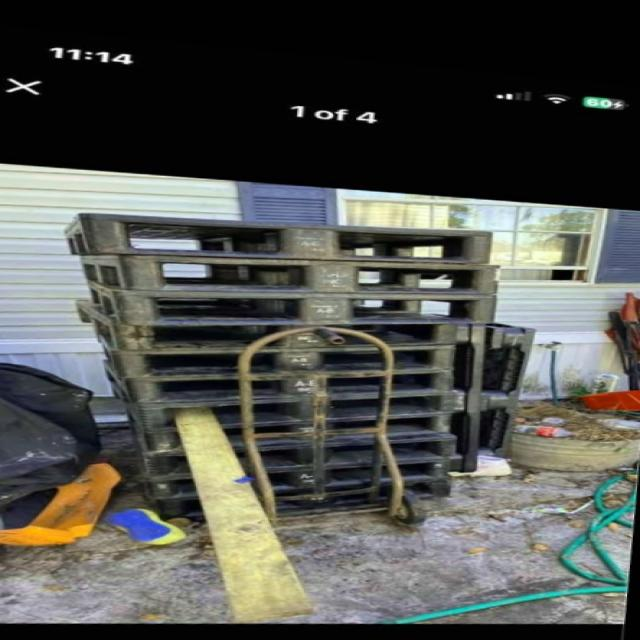non-igps: (48, 206, 498, 272), (71, 242, 514, 302), (67, 294, 463, 357), (77, 278, 503, 332), (138, 430, 469, 485), (138, 456, 473, 505), (128, 390, 466, 436), (145, 477, 460, 525), (135, 411, 462, 457), (104, 341, 461, 383), (116, 365, 460, 408), (474, 319, 542, 461), (440, 320, 496, 475)
